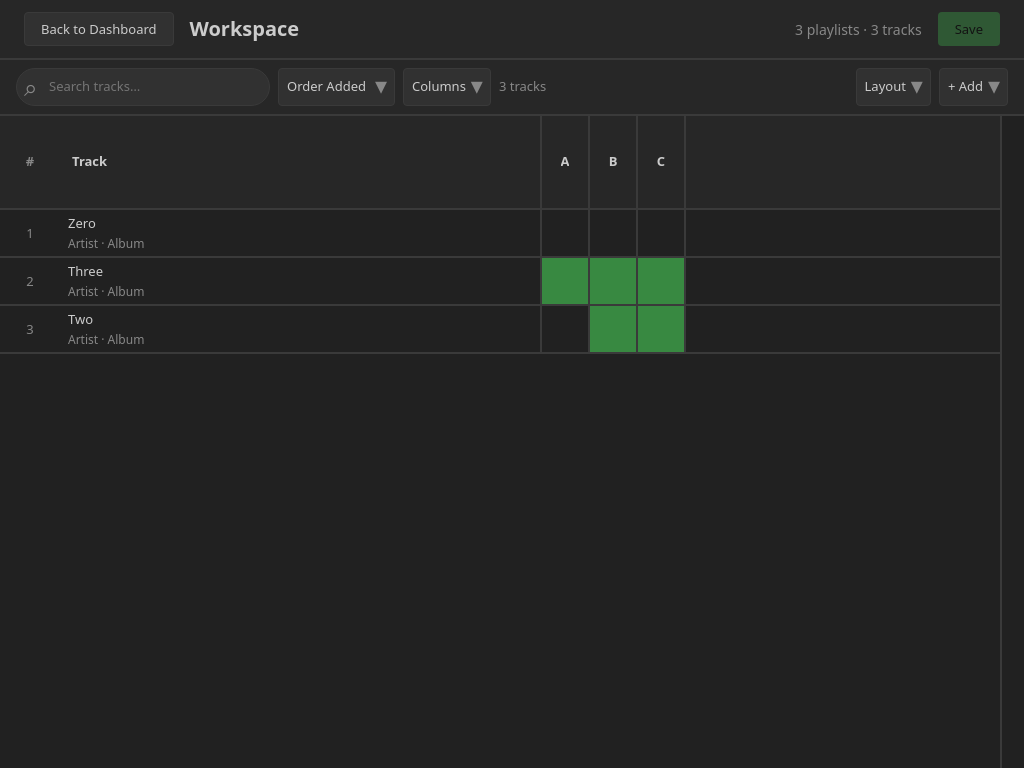
Test: WorkspaceView › most-playlists sort › orders tracks by descending playlist count
Select "Most Playlists" in the 1st dropdown with class "dropdown" at (336, 87), box [278,68,395,106]
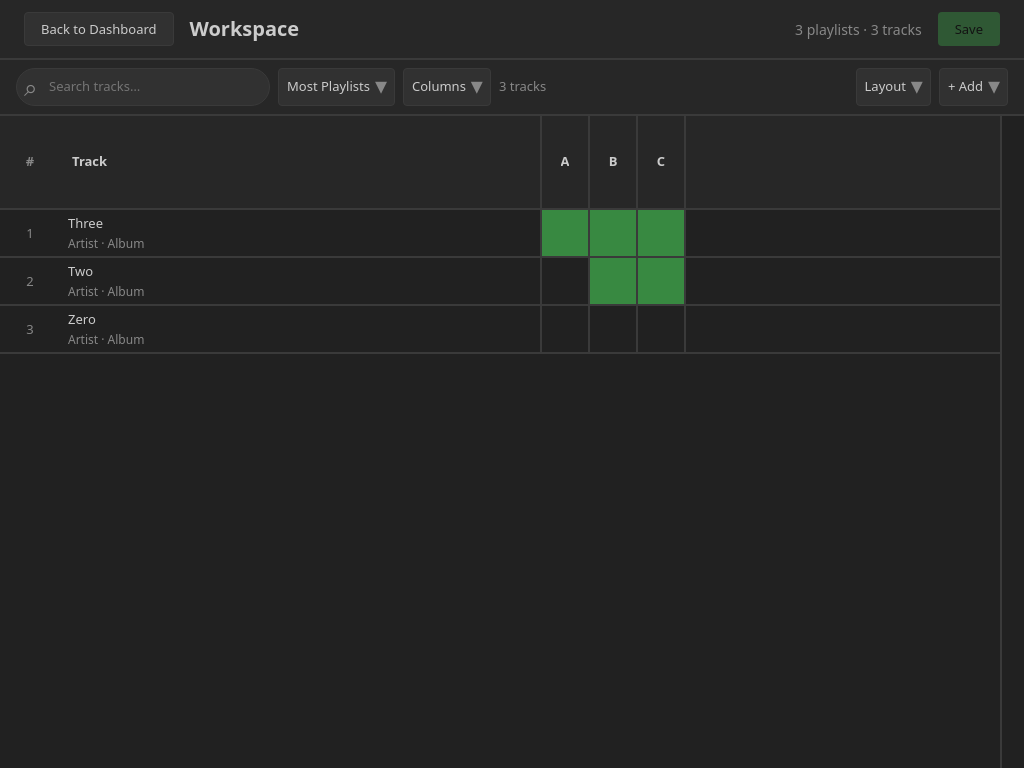
Expected: the elements with class "track-row__title" read "Three", "Two", "Zero", in this order, [68,214,103,232]; [68,262,93,280]; [68,310,96,328]
